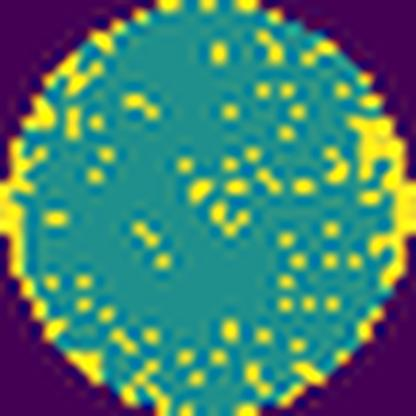Edge-Loc: (0, 134, 71, 344), (348, 113, 416, 296)
